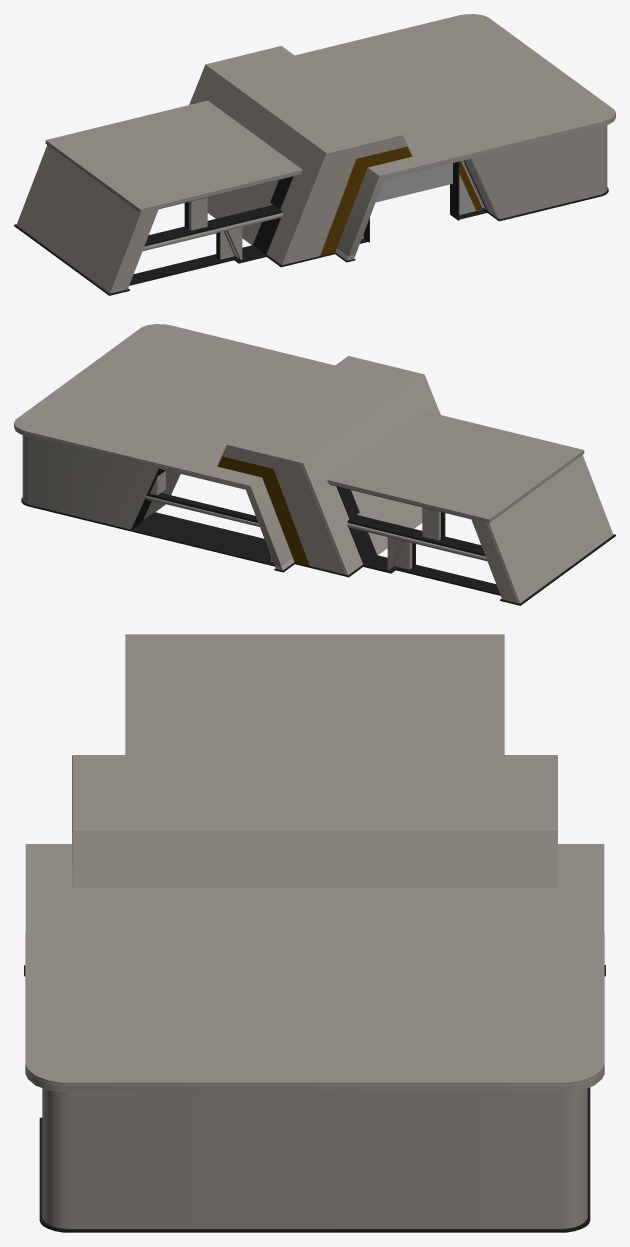
Rendered from Building_Kyowon_001_1st_L1.fbx.
3 views of the same model, one above another, from view 1: azimuth 30°, elevation 25°; view 2: azimuth 150°, elevation 25°; view 3: azimuth 270°, elevation 25° (orthographic). The views are drawn at different scales.
Visible parts, largest first — view 1: Building_Kyowon_001_1st_L1; view 2: Building_Kyowon_001_1st_L1; view 3: Building_Kyowon_001_1st_L1.
Part boxes in pixels (x1,y1,x2,y2): Building_Kyowon_001_1st_L1: (14, 14, 615, 295); Building_Kyowon_001_1st_L1: (14, 324, 615, 605); Building_Kyowon_001_1st_L1: (24, 634, 605, 1232).
Size of the model in its own units: 77.64 by 15.52 by 39.98.
